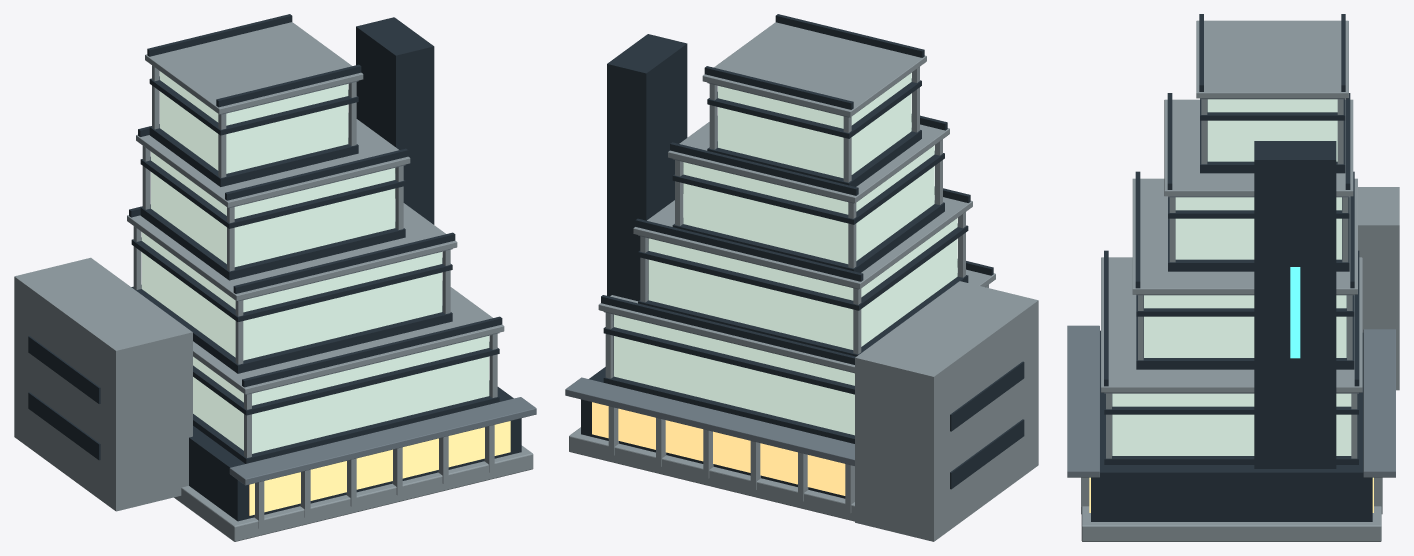
The model's file is vrx_city_services_b_LOD0.fbx.
3 views of the same model, side by side, from view 1: azimuth 30°, elevation 25°; view 2: azimuth 150°, elevation 25°; view 3: azimuth 270°, elevation 25° (orthographic). The views are drawn at different scales.
Visible parts, largest first — view 1: vrx_city_services_b_LOD0; view 2: vrx_city_services_b_LOD0; view 3: vrx_city_services_b_LOD0.
Part boxes in pixels (x1,y1,x2,y2): vrx_city_services_b_LOD0: (14,14,536,541); vrx_city_services_b_LOD0: (565,14,1038,541); vrx_city_services_b_LOD0: (1067,14,1399,541).
Size of the model in its own units: 47.7 by 48.5 by 36.6.
